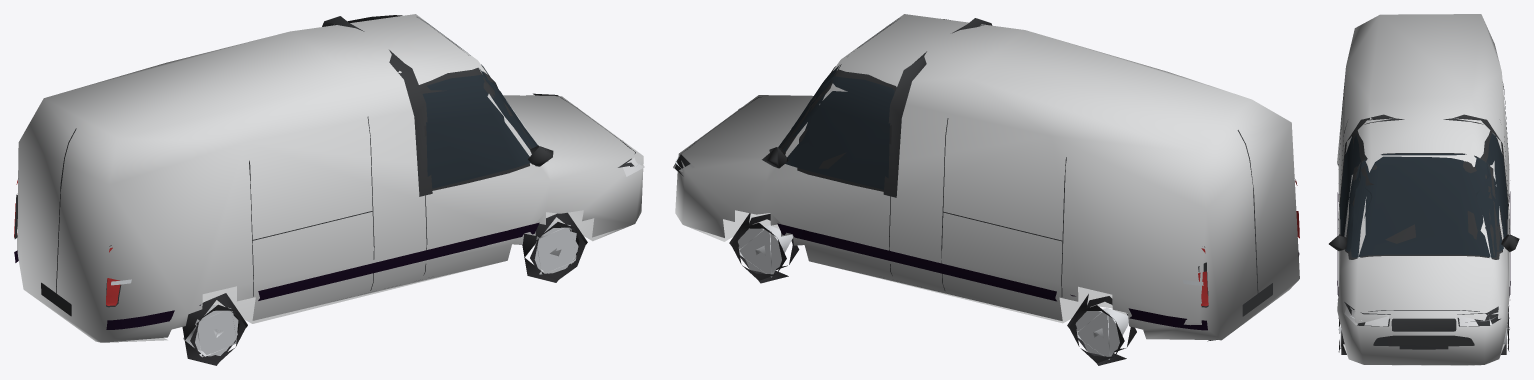
Rendered from pro_demen_ufar.glb.
3 views of the same model, side by side, from view 1: azimuth 30°, elevation 25°; view 2: azimuth 150°, elevation 25°; view 3: azimuth 270°, elevation 25° (orthographic). The views are drawn at different scales.
Parts seen in each view (by area): view 1: Body, Glass-1, ProStripe-1, WheelRR, WheelFR, Bpillar-1, WinFrame-1; view 2: Body, Glass1, ProStripe1, WheelRL, WheelFL, Bpillar1, WinFrame1; view 3: Body, Windshield, Glass-1, WsFrame, Glass1, Intake, Grille, HeadReflector, HeadBezel, WinFrame-1, WinFrame1, Bpillar1 (+4 smaller).
Boxes of the visible parts, bbox=[...] form: Body: bbox=[17, 14, 643, 342]; Glass-1: bbox=[422, 74, 535, 188]; ProStripe-1: bbox=[106, 222, 539, 329]; WheelRR: bbox=[182, 293, 247, 365]; WheelFR: bbox=[522, 212, 587, 282]; Bpillar-1: bbox=[389, 50, 432, 196]; WinFrame-1: bbox=[419, 67, 531, 190]; Body: bbox=[675, 14, 1299, 340]; Glass1: bbox=[783, 76, 894, 189]; ProStripe1: bbox=[777, 223, 1207, 330]; WheelRL: bbox=[1067, 294, 1136, 365]; WheelFL: bbox=[729, 213, 799, 283]; Bpillar1: bbox=[883, 51, 926, 197]; WinFrame1: bbox=[782, 69, 896, 191]; Body: bbox=[1337, 14, 1509, 365]; Windshield: bbox=[1351, 153, 1496, 257]; Glass-1: bbox=[1340, 135, 1372, 251]; WsFrame: bbox=[1348, 153, 1499, 259]; Glass1: bbox=[1475, 133, 1507, 251]; Intake: bbox=[1373, 335, 1474, 346]; Grille: bbox=[1391, 318, 1456, 331]; HeadReflector: bbox=[1344, 305, 1500, 326]; HeadBezel: bbox=[1344, 302, 1500, 326]; WinFrame-1: bbox=[1340, 131, 1373, 253]; WinFrame1: bbox=[1480, 131, 1507, 253]; Bpillar1: bbox=[1443, 114, 1508, 209].
Bounding box in the file's own units: 5.62 × 2.31 × 2.14.
